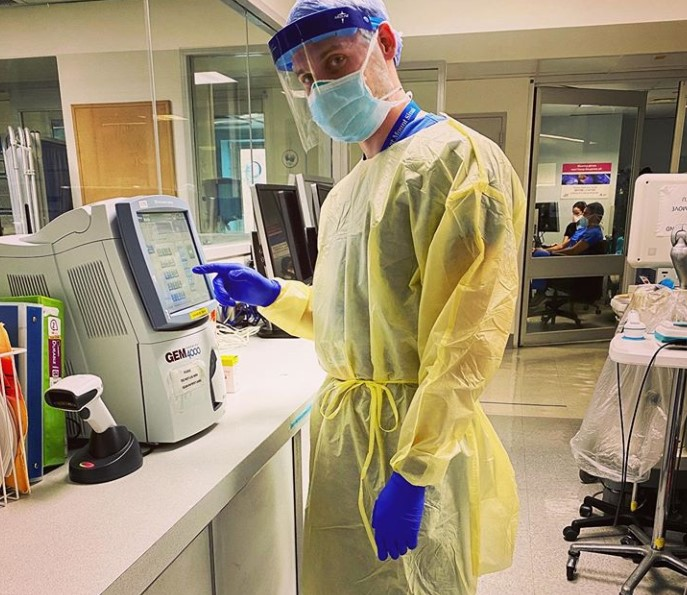face_with_mask: (267, 2, 403, 147), (585, 203, 605, 234), (571, 199, 585, 226)
